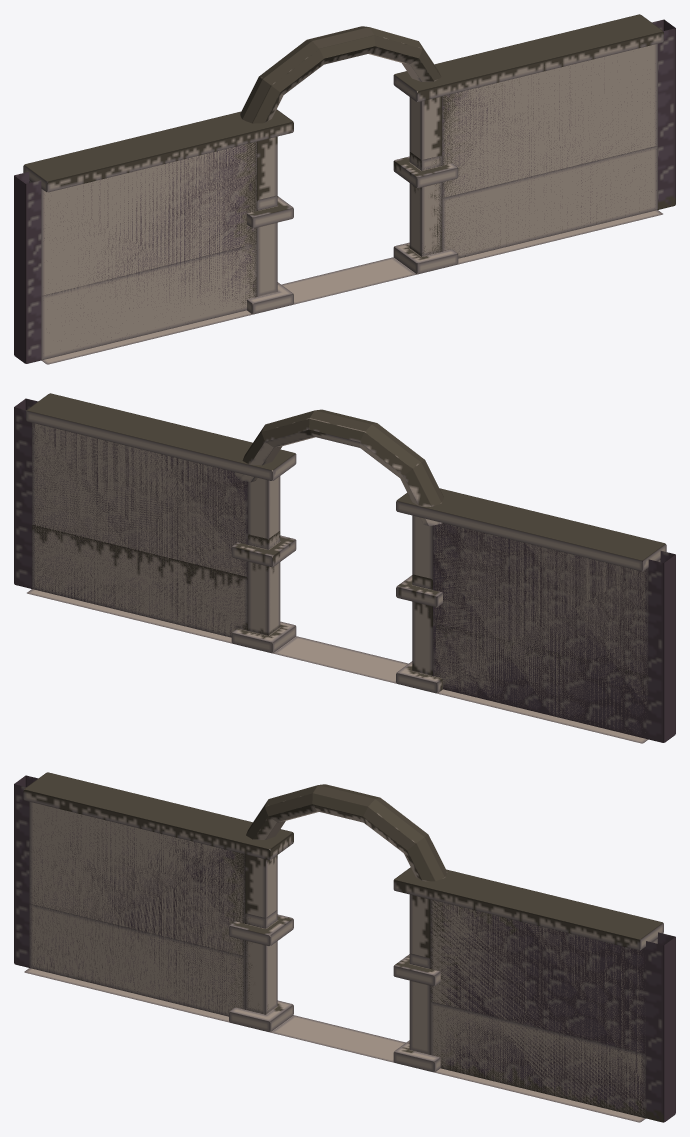
File: ER_DungeonGate.fbx
3 renders of one model, top to bottom at view 1: azimuth 30°, elevation 25°; view 2: azimuth 150°, elevation 25°; view 3: azimuth 330°, elevation 25°, orthographic.
Parts seen in each view (by area): view 1: Wall, GrassGate, Wall_1, cuboid_5, cuboid_4, torus, cuboid_3, cuboid_1; view 2: Wall_1, Wall, GrassGate, cuboid_5, cuboid_4, torus, cuboid_3, cuboid_1; view 3: Wall_1, Wall, GrassGate, cuboid_4, cuboid_5, torus, cuboid_1, cuboid_3.
Boxes of the visible parts, <box> form: Wall: <box>29,44,657,359</box>; GrassGate: <box>41,146,662,364</box>; Wall_1: <box>14,19,675,363</box>; cuboid_5: <box>393,14,663,101</box>; cuboid_4: <box>23,109,293,192</box>; torus: <box>240,26,441,123</box>; cuboid_3: <box>409,96,441,255</box>; cuboid_1: <box>257,136,277,210</box>; Wall_1: <box>14,398,675,742</box>; Wall: <box>32,423,660,731</box>; GrassGate: <box>27,525,648,743</box>; cuboid_5: <box>26,393,296,480</box>; cuboid_4: <box>396,488,666,571</box>; torus: <box>234,409,443,526</box>; cuboid_3: <box>248,476,280,634</box>; cuboid_1: <box>412,515,432,589</box>; Wall_1: <box>14,775,675,1122</box>; Wall: <box>29,801,657,1116</box>; GrassGate: <box>24,904,645,1122</box>; cuboid_4: <box>23,772,293,859</box>; cuboid_5: <box>393,867,663,950</box>; torus: <box>246,784,447,881</box>; cuboid_1: <box>245,849,277,1013</box>; cuboid_3: <box>409,894,430,1016</box>.
Size of the model in its own units: 1581 by 569 by 100.
3 materials, 3 textured.
